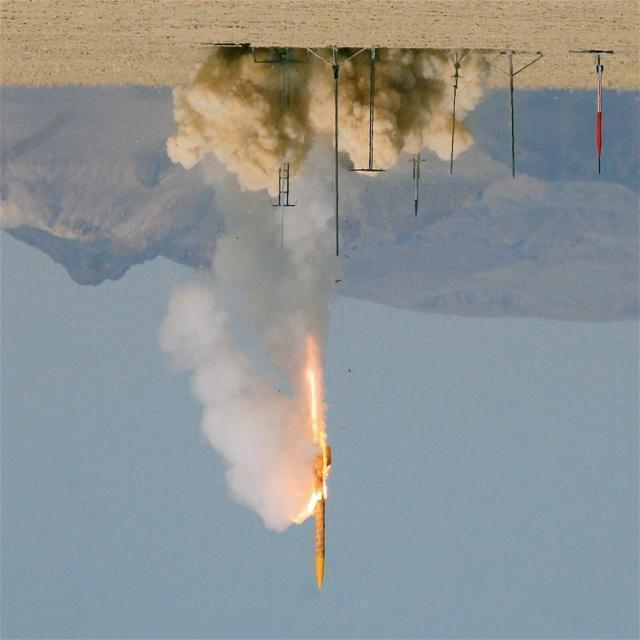missile: (305, 442, 333, 589)
